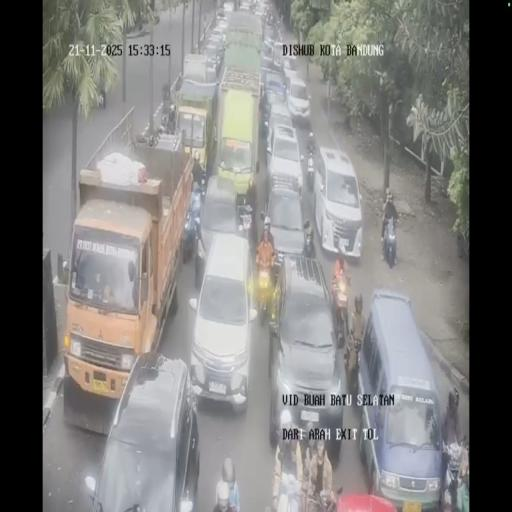car: (356, 288, 443, 502), (88, 353, 200, 508), (267, 257, 342, 453), (313, 145, 363, 261), (196, 173, 242, 274), (264, 185, 306, 267), (266, 117, 304, 198), (283, 71, 310, 125), (262, 71, 288, 122), (202, 41, 223, 77), (272, 39, 289, 71), (261, 35, 275, 65), (254, 2, 265, 20), (216, 4, 228, 19), (240, 0, 252, 12)
motorcycle: (274, 465, 304, 512), (254, 256, 275, 321), (381, 211, 398, 267), (237, 203, 254, 252), (160, 89, 175, 131), (305, 157, 315, 191)
truck: (173, 61, 218, 177)
